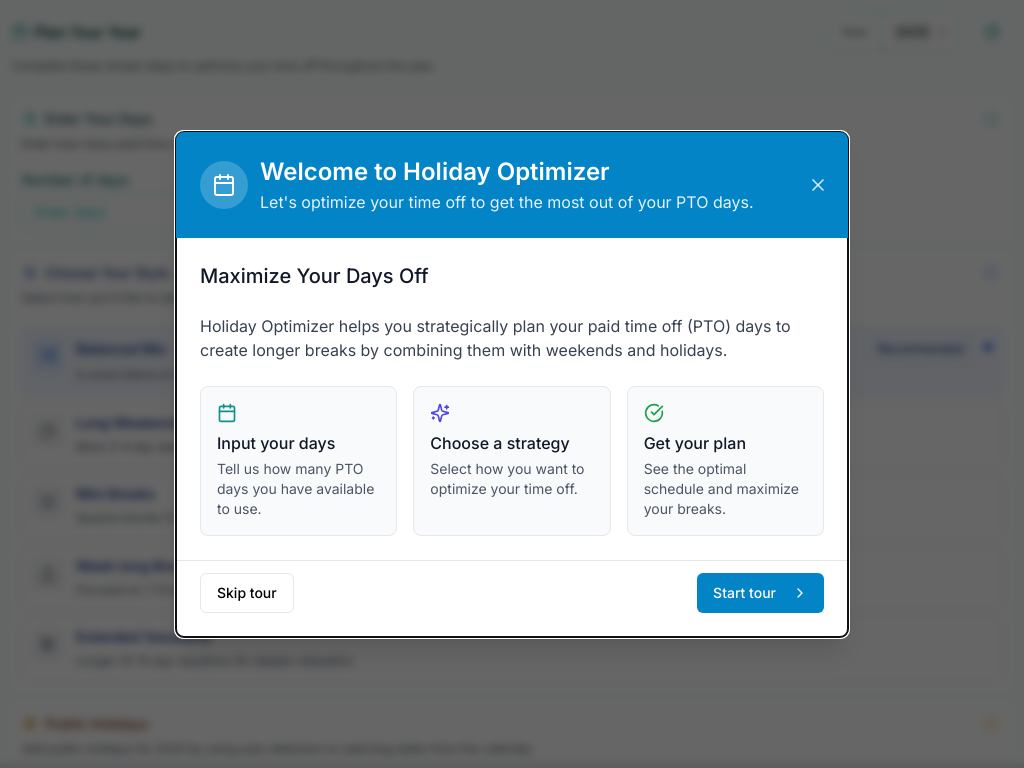
Test: Onboarding Flow Integration Tests › should allow user to close the onboarding overlay using X button
Step 1. Click the button named "close onboarding" → [818, 184], box [800,166,836,202]
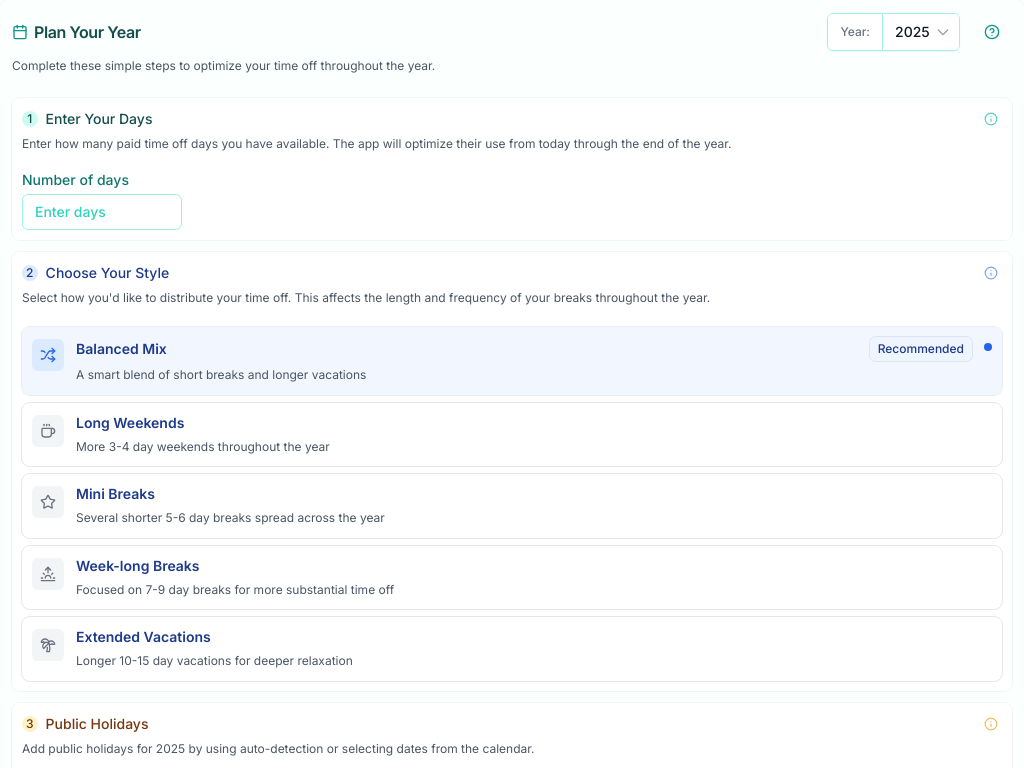
Now the dialog is gone
